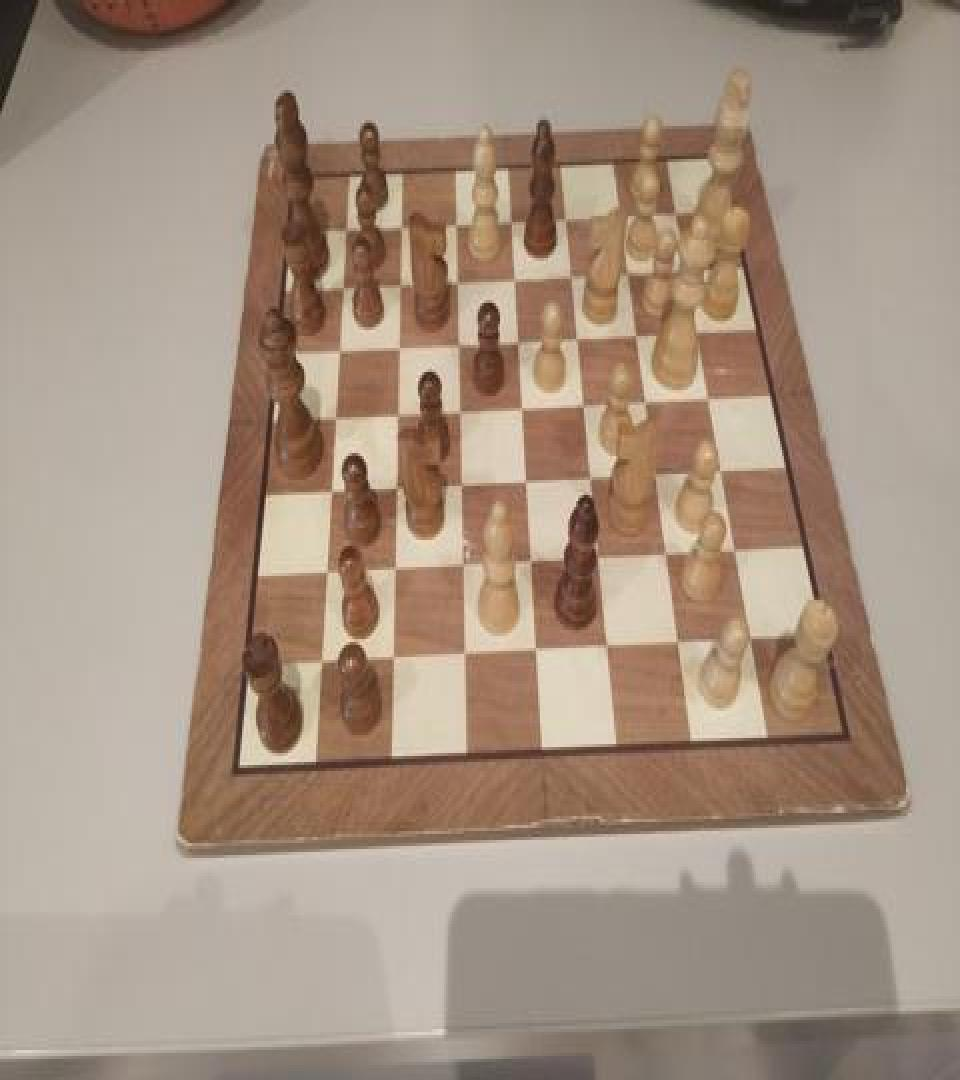xcorner: (610, 199, 630, 230), (382, 644, 402, 674), (455, 639, 475, 669), (527, 636, 547, 666), (671, 627, 691, 657), (743, 624, 763, 654), (383, 552, 403, 582), (453, 549, 473, 579), (522, 546, 542, 576), (659, 538, 679, 568), (319, 474, 339, 504), (385, 471, 405, 501), (451, 468, 471, 498), (516, 464, 536, 494), (582, 460, 602, 490), (647, 458, 667, 488), (712, 454, 732, 484), (323, 399, 343, 429), (386, 396, 406, 426), (449, 393, 469, 423), (512, 390, 532, 420), (574, 387, 594, 417), (636, 384, 656, 414), (698, 381, 718, 411), (327, 330, 347, 360), (387, 328, 407, 358), (447, 326, 467, 356), (507, 322, 527, 352), (567, 320, 587, 350), (627, 316, 647, 346), (686, 315, 706, 345), (330, 268, 350, 298), (388, 266, 408, 296), (446, 262, 466, 292), (503, 261, 523, 291), (561, 258, 581, 288), (618, 255, 638, 285), (675, 254, 695, 284), (334, 210, 354, 240), (389, 208, 409, 238), (445, 206, 465, 236), (500, 204, 520, 234), (555, 201, 575, 231), (664, 196, 684, 226), (309, 647, 329, 676), (599, 632, 619, 661), (314, 557, 334, 586), (590, 542, 610, 571), (727, 536, 747, 565)
